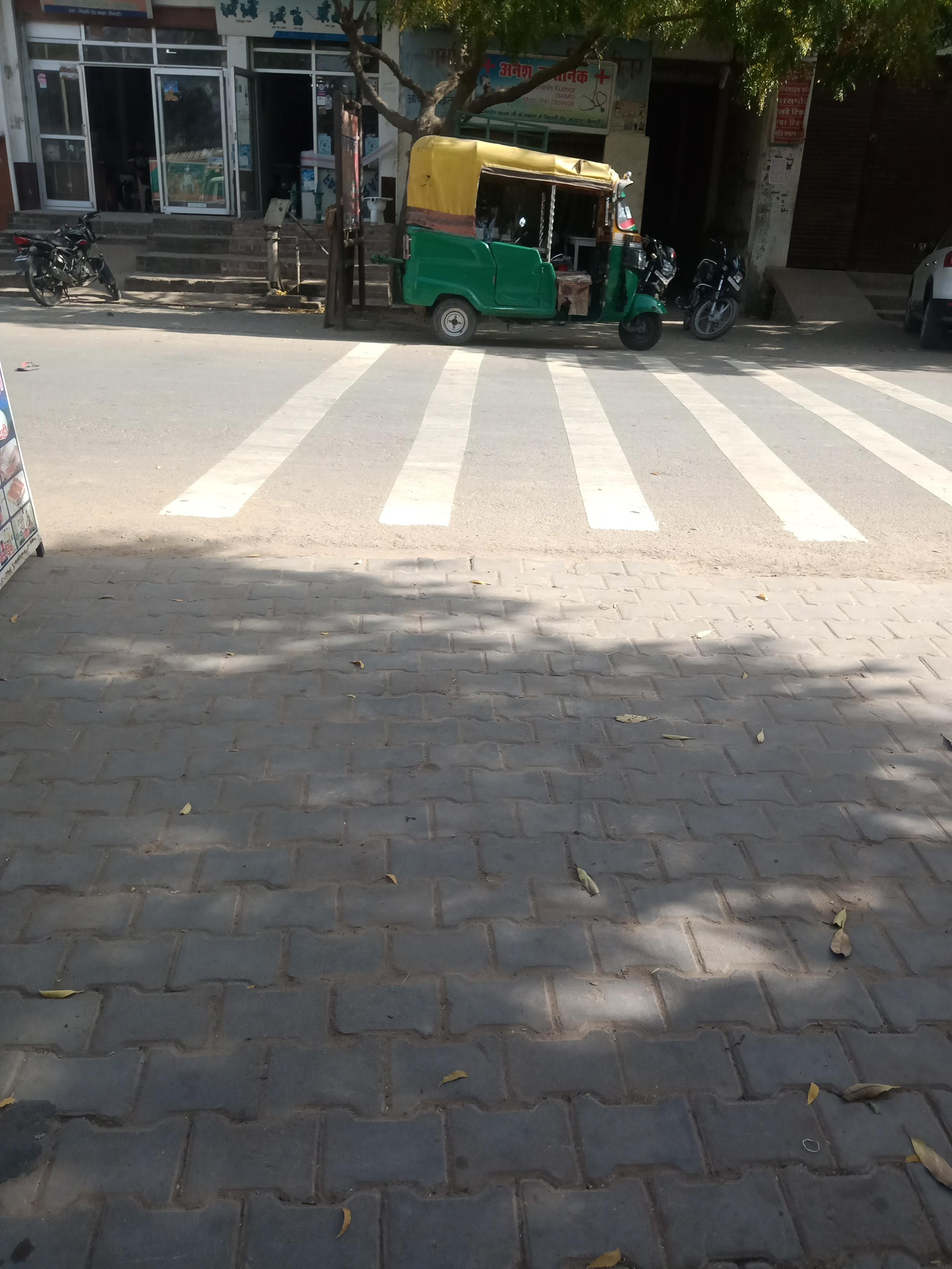Non-emergency: (344, 57, 721, 409)
